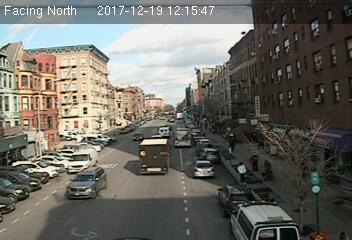car: (64, 165, 106, 199), (218, 181, 251, 212), (191, 159, 214, 179), (201, 148, 219, 162)
pedestrian: (236, 161, 248, 184), (262, 158, 272, 181)
police: (229, 199, 305, 238)
truck: (66, 148, 95, 172), (173, 127, 193, 148)
ups: (138, 137, 170, 175)
